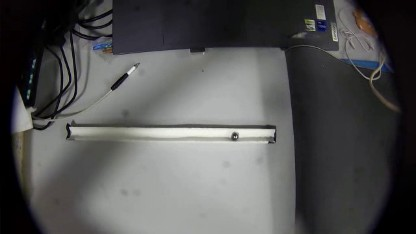gangzhu: (230, 130, 238, 140)
